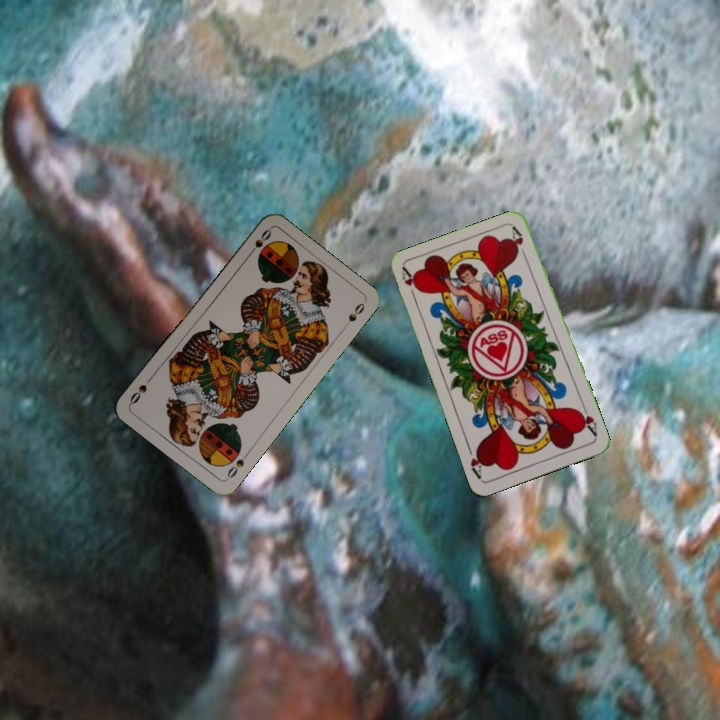HA: (397, 264, 423, 304), (574, 400, 600, 439)
SO: (244, 225, 274, 259), (223, 448, 252, 482)
